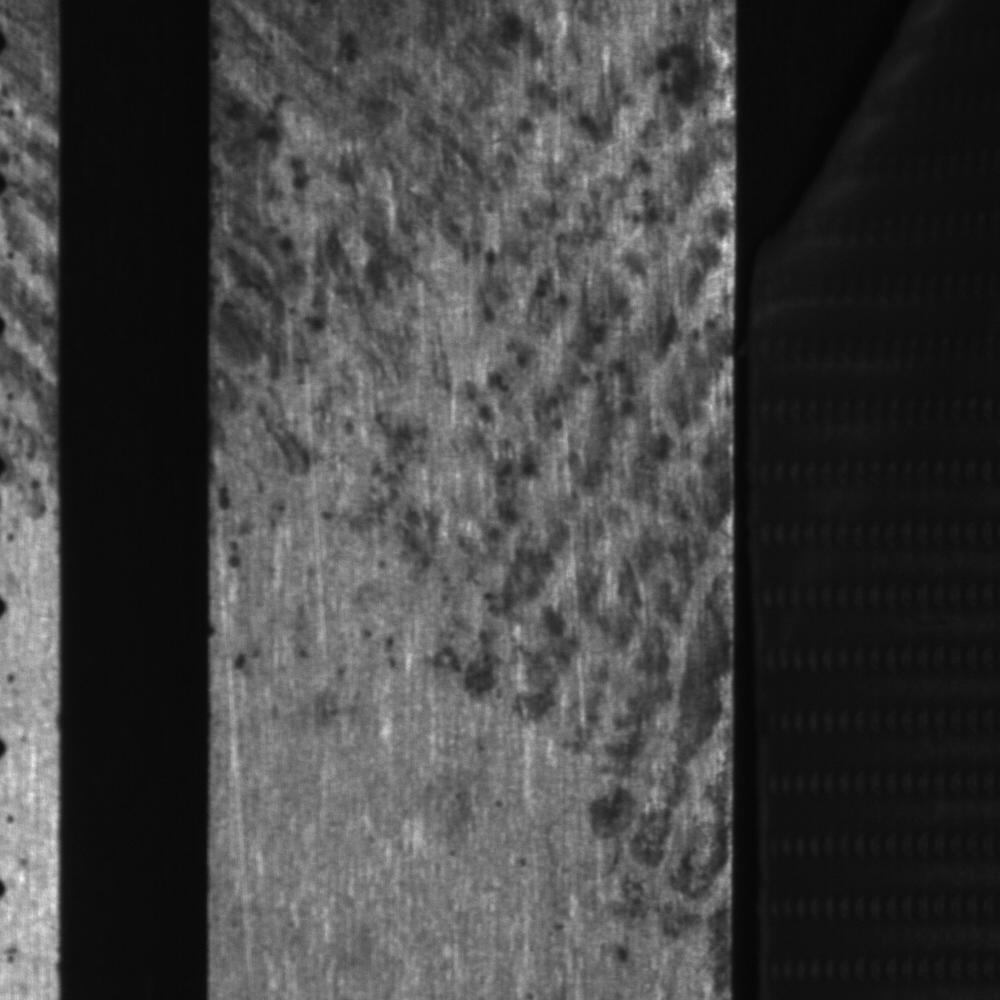Discolor: (542, 3, 737, 482), (219, 3, 529, 293), (444, 492, 730, 745), (214, 300, 536, 485), (587, 750, 731, 994), (287, 493, 434, 731), (1, 6, 56, 593)
